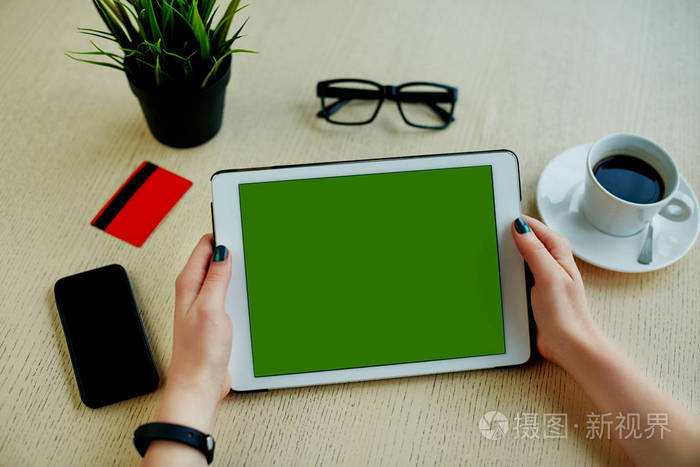pad: (150, 148, 612, 393)
